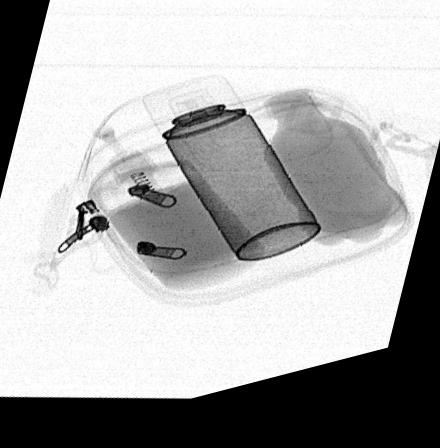Sprayer: (142, 85, 319, 274)
